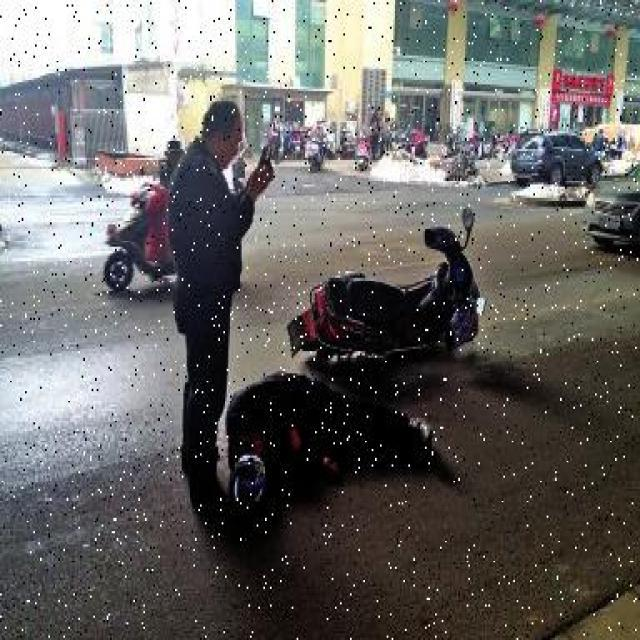fall: (227, 376, 450, 502)
